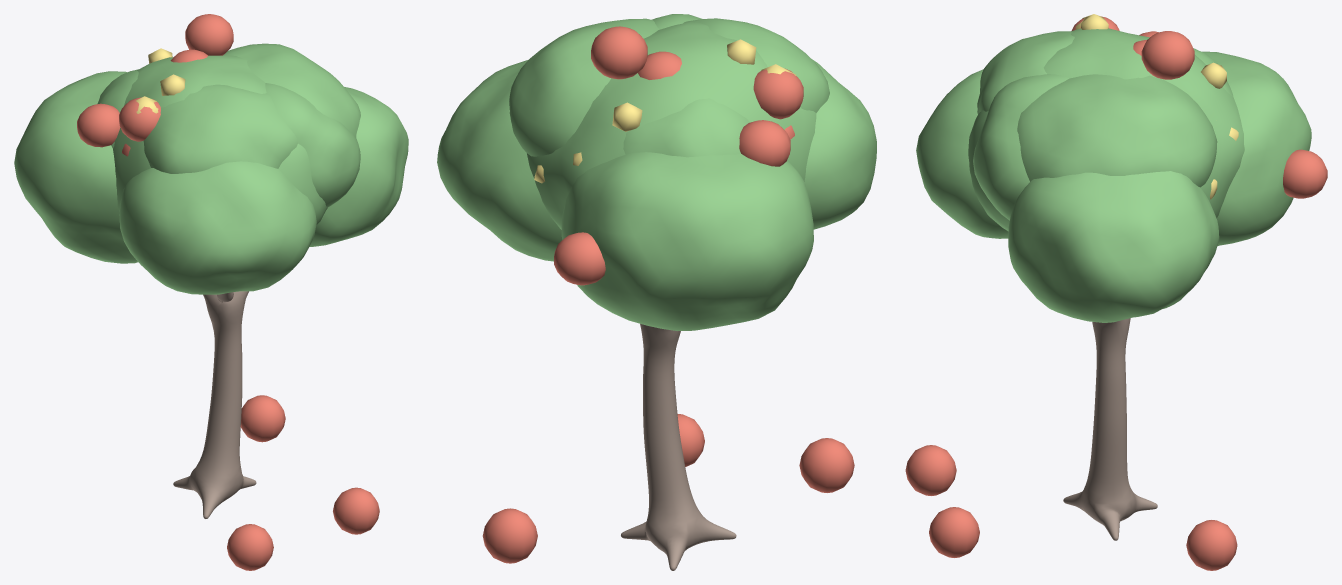
File: tree_young_0.glb
3 renders of one model, left to right at view 1: azimuth 30°, elevation 25°; view 2: azimuth 150°, elevation 25°; view 3: azimuth 270°, elevation 25°, orthographic. The views are drawn at different scales.
Parts seen in each view (by area): view 1: leaf_3, leaf_2, leaf_6, trunk, leaf_1, leaf_0, leaf_5, fallen, leaf_4, fruit_0, fruit_8, fruit_6 (+2 smaller); view 2: leaf_2, leaf_0, leaf_1, trunk, leaf_4, leaf_3, fallen, leaf_7, leaf_6, fruit_0, fruit_2, fruit_6 (+3 smaller); view 3: leaf_1, leaf_4, leaf_2, leaf_0, trunk, leaf_3, fallen, leaf_5, leaf_6, fruit_0, fruit_2, blossom.
Boxes of the visible parts, <box> form: leaf_3: <box>119,161,316,294</box>; leaf_2: <box>14,71,137,263</box>; leaf_6: <box>143,84,297,173</box>; trunk: <box>173,291,256,518</box>; leaf_1: <box>309,87,408,246</box>; leaf_0: <box>113,55,327,224</box>; leaf_5: <box>265,83,360,207</box>; fallen: <box>227,395,379,570</box>; leaf_4: <box>223,43,360,137</box>; fruit_0: <box>185,14,233,55</box>; fruit_8: <box>77,103,120,147</box>; fruit_6: <box>119,97,160,141</box>; leaf_2: <box>561,152,813,330</box>; leaf_0: <box>527,22,816,229</box>; leaf_1: <box>437,60,562,261</box>; trunk: <box>621,324,736,570</box>; leaf_4: <box>509,18,659,156</box>; leaf_3: <box>804,59,876,229</box>; fallen: <box>482,414,854,563</box>; leaf_7: <box>623,98,749,157</box>; leaf_6: <box>683,18,829,112</box>; fruit_0: <box>591,26,647,79</box>; fruit_2: <box>554,232,605,285</box>; fruit_6: <box>753,68,803,119</box>; leaf_1: <box>1008,171,1219,322</box>; leaf_4: <box>1017,74,1217,187</box>; leaf_2: <box>1202,51,1311,245</box>; leaf_0: <box>968,28,1244,231</box>; trunk: <box>1063,318,1157,540</box>; leaf_3: <box>916,69,1008,238</box>; fallen: <box>905,445,1237,570</box>; leaf_5: <box>973,74,1069,220</box>; leaf_6: <box>977,31,1074,114</box>; fruit_0: <box>1141,31,1194,79</box>; fruit_2: <box>1283,149,1327,198</box>; blossom: <box>1075,14,1238,199</box>.
Bounding box in the file's own units: 2.48 × 3.25 × 2.5.
